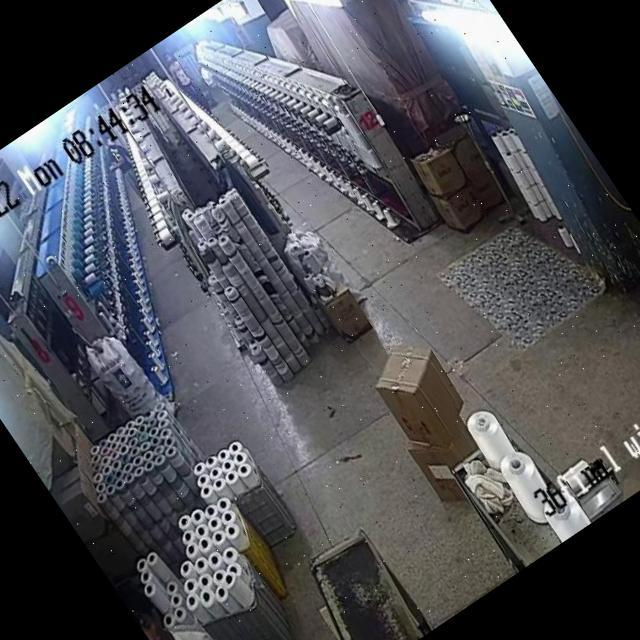person: (120, 555, 294, 640), (161, 46, 212, 110), (99, 131, 145, 188)
